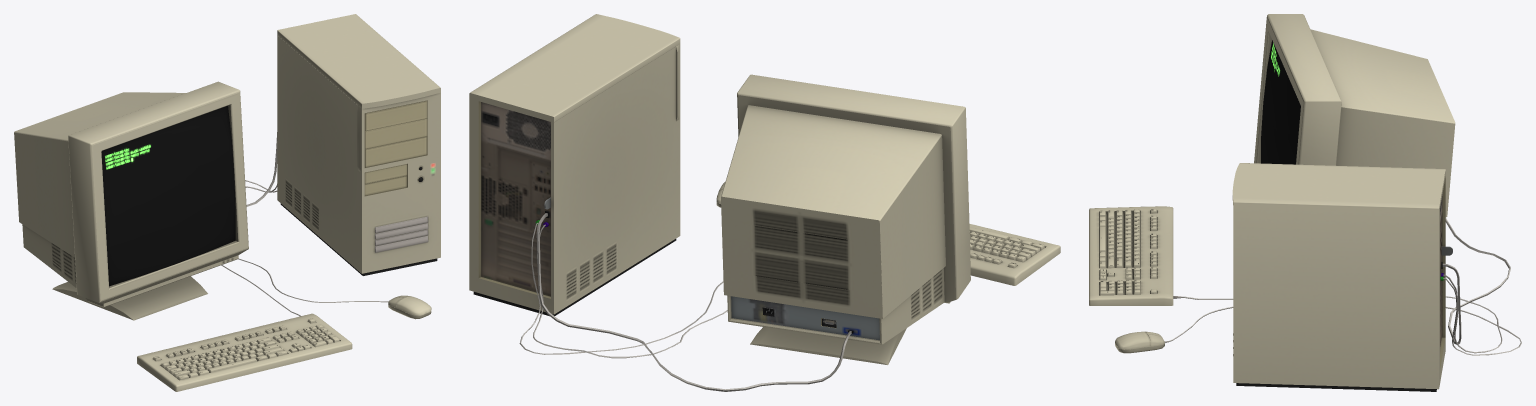
The model's file is near.glb.
3 views of the same model, side by side, from view 1: azimuth 30°, elevation 25°; view 2: azimuth 150°, elevation 25°; view 3: azimuth 270°, elevation 25° (orthographic). The views are drawn at different scales.
Parts seen in each view (by area): view 1: retro_computer_setup; view 2: retro_computer_setup; view 3: retro_computer_setup.
Part boxes in pixels (bbox=[...]): retro_computer_setup: bbox=[14, 14, 440, 391]; retro_computer_setup: bbox=[469, 14, 1060, 391]; retro_computer_setup: bbox=[1089, 14, 1521, 391].
Size of the model in its own units: 2.42 by 1.23 by 2.42.
Materials: 1 (1 with a texture image).
